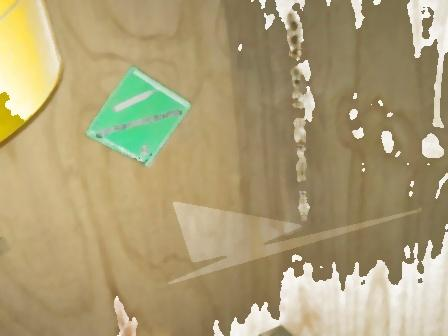non-flammable-gas: (81, 60, 201, 172)
